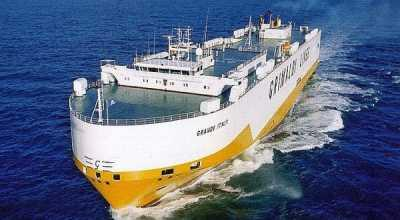Cargoship: (66, 6, 322, 212)
